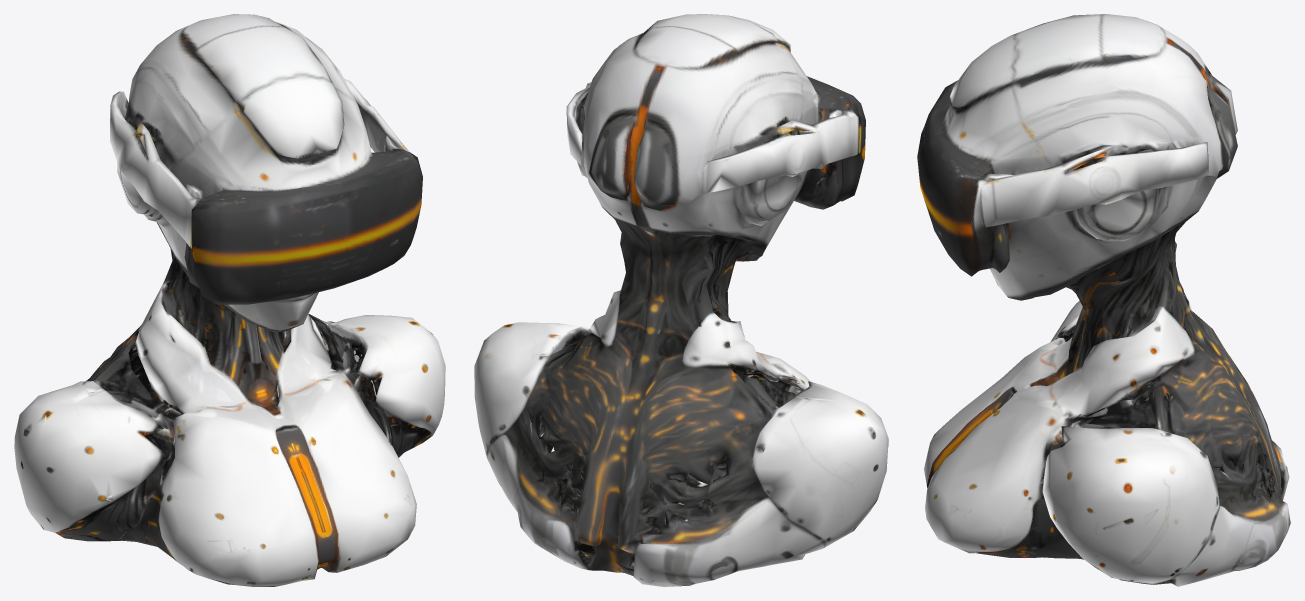
File: MisssionRobot.glb
The picture shows the model from 3 angles, left to right: view 1: azimuth 30°, elevation 25°; view 2: azimuth 150°, elevation 25°; view 3: azimuth 270°, elevation 25°; orthographic projection. The views are drawn at different scales.
Bounding box in the file's own units: 1.67 × 2 × 1.3.
Materials: 1 (1 with a texture image).
